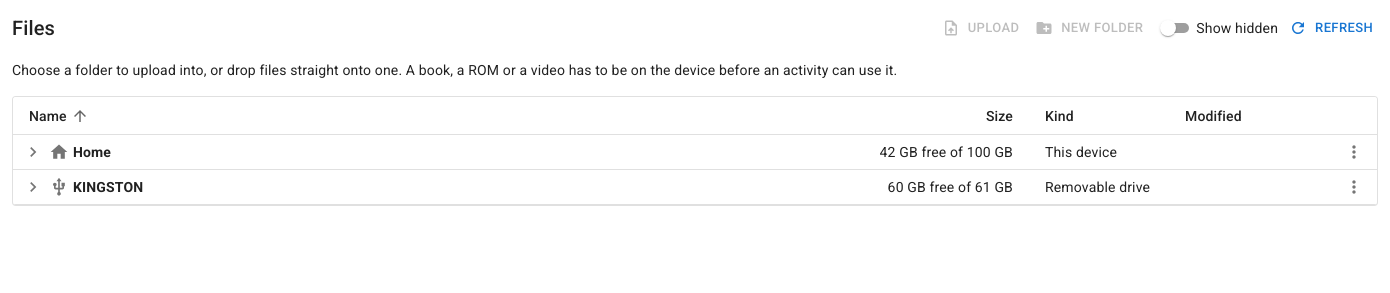
the file tree › hides dotfiles until asked, and then shows them
Check: the heading "Files" is shown, box [12,12,55,44]
Click the button named "Expand Home": [33, 152] box [18,137,48,167]
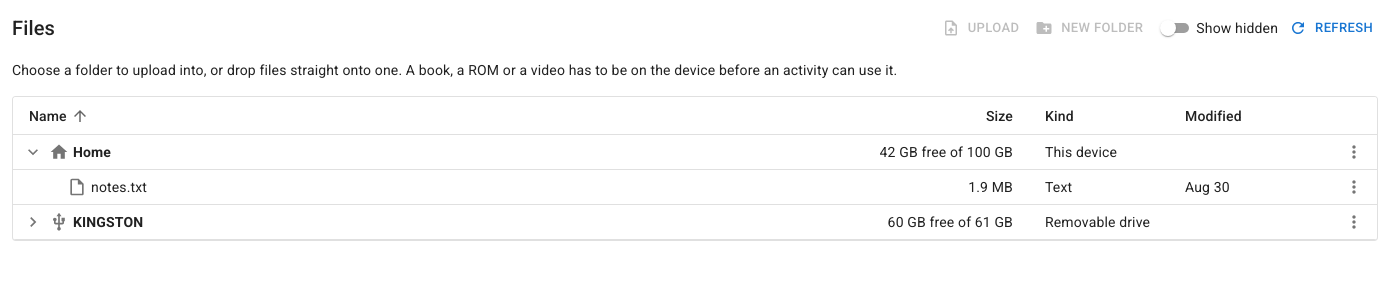
Check: the text ".pam_environment" is not shown
Check: the text "notes.txt" is shown, box [91,179,147,195]
Click the switch labelled "Show hidden": [1217, 28] box [1156,16,1278,40]
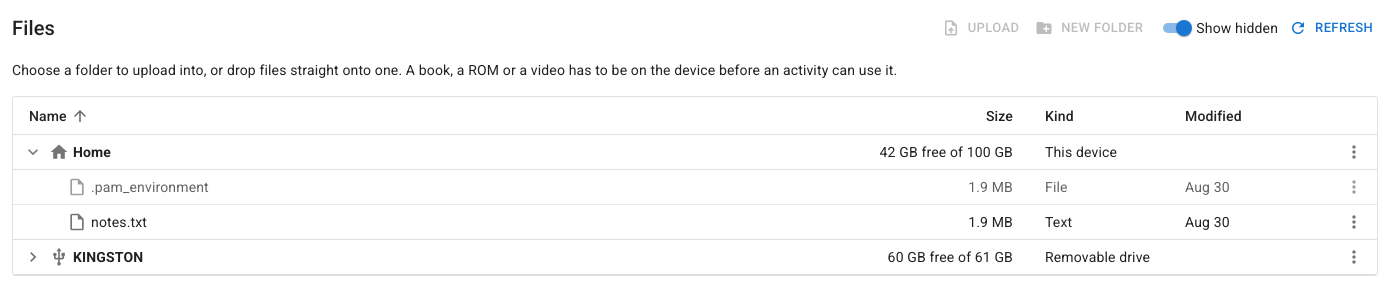
Check: the text ".pam_environment" is shown, box [91,179,209,195]
